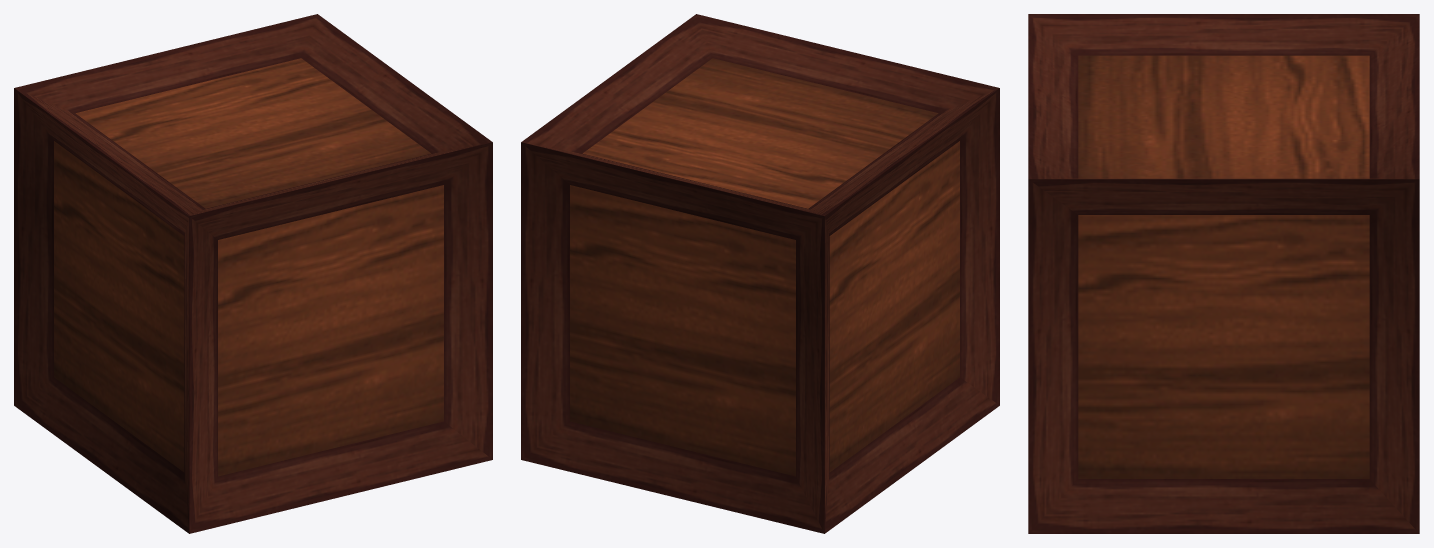
File: Crate_01.FBX
3 views of the same model, side by side, from view 1: azimuth 30°, elevation 25°; view 2: azimuth 150°, elevation 25°; view 3: azimuth 270°, elevation 25° (orthographic). The views are drawn at different scales.
Parts seen in each view (by area): view 1: Crate_01; view 2: Crate_01; view 3: Crate_01.
Part boxes in pixels (<box>): Crate_01: <box>14,14,492,533</box>; Crate_01: <box>521,14,999,533</box>; Crate_01: <box>1028,14,1419,533</box>.
Size of the model in its own units: 0.8181 by 0.8181 by 0.8181.
